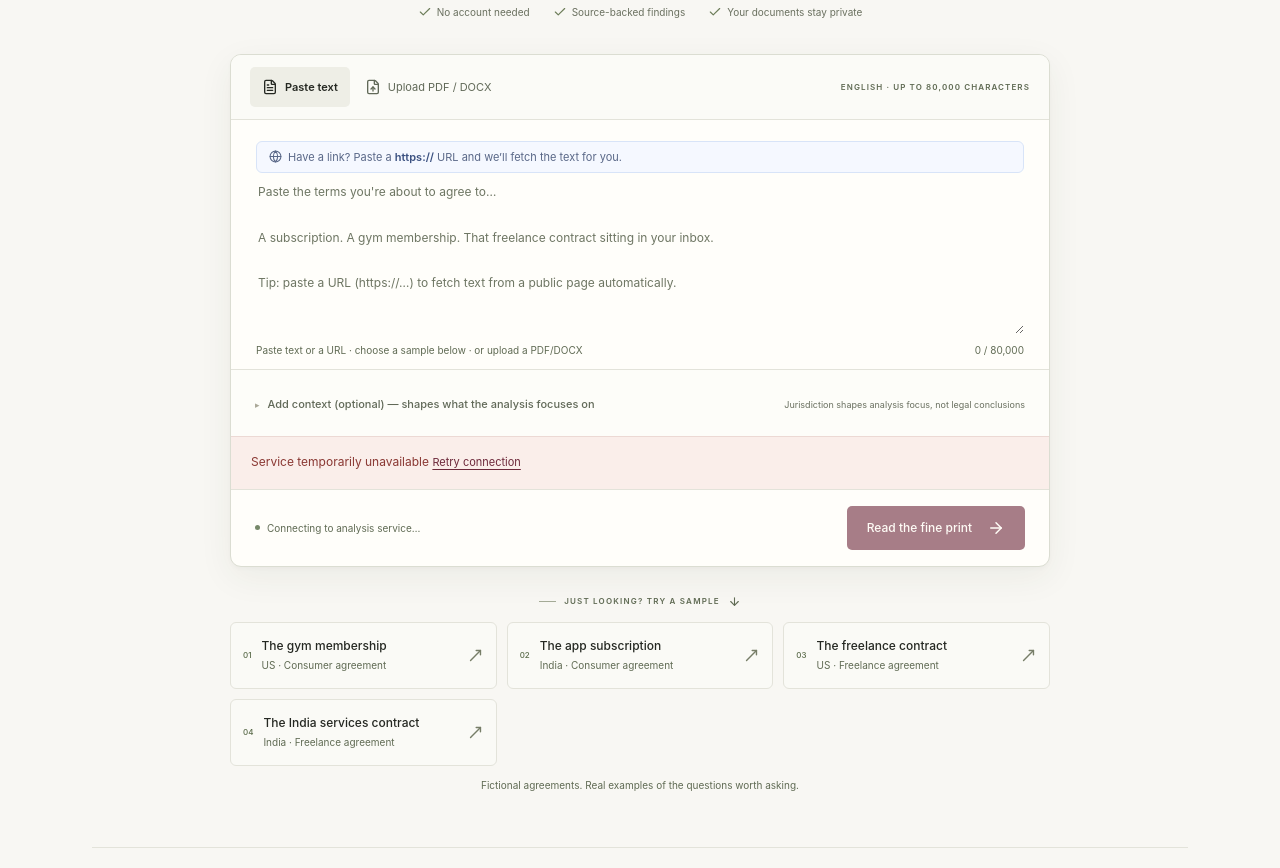
Test: contract intake › allows retrying a failed session connection
(page scrolled)
Click the button "Retry connection": (477, 463) [432,449,521,477]
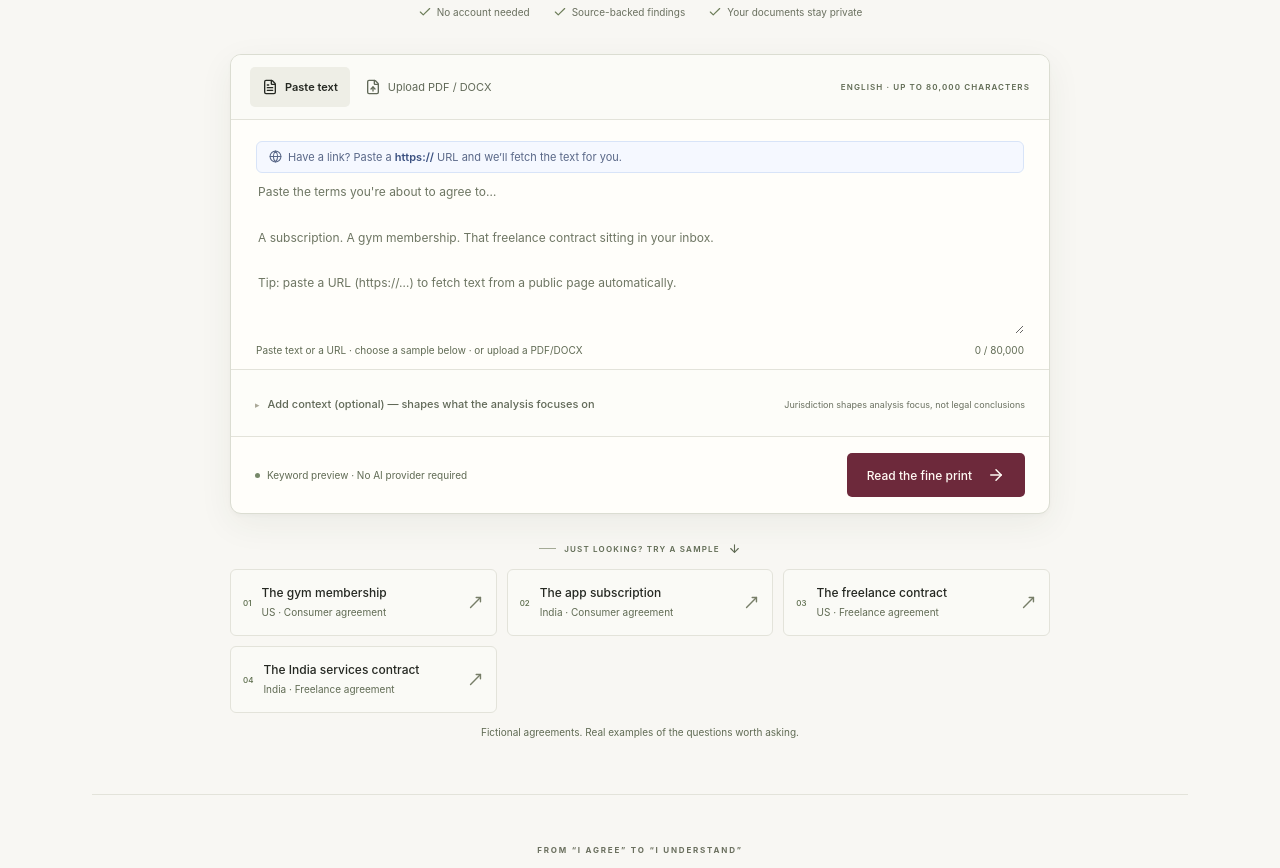
Expected: the button "Read the fine print" is enabled, [847,453,1025,497]
Expected: the message "Service temporarily unavailable Retry connection" is gone
